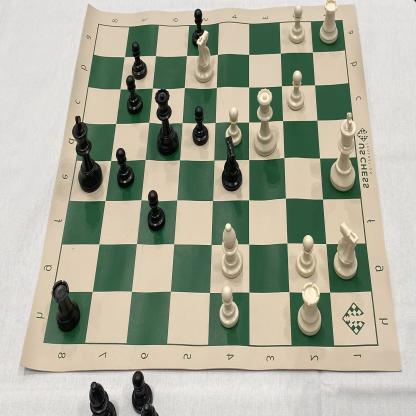bishop: (218, 220, 245, 281)
black-knight: (70, 110, 105, 197), (218, 135, 248, 194)
black-pawn: (144, 191, 167, 238), (113, 148, 137, 190), (123, 75, 147, 117), (189, 3, 211, 47), (129, 38, 150, 82), (191, 103, 210, 148)
black-queen: (154, 84, 182, 158)
black-rook: (50, 272, 82, 335)
white-king: (328, 110, 362, 193)
white-knight: (331, 220, 363, 282), (192, 27, 216, 88)
white-pawn: (215, 280, 241, 331), (294, 232, 319, 281), (222, 103, 245, 148), (286, 71, 308, 113), (288, 1, 308, 46)
white-queen: (252, 82, 279, 160)
white-rook: (294, 280, 325, 338), (317, 0, 344, 47)
